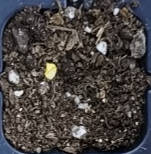chilli seed: (44, 61, 57, 80)
